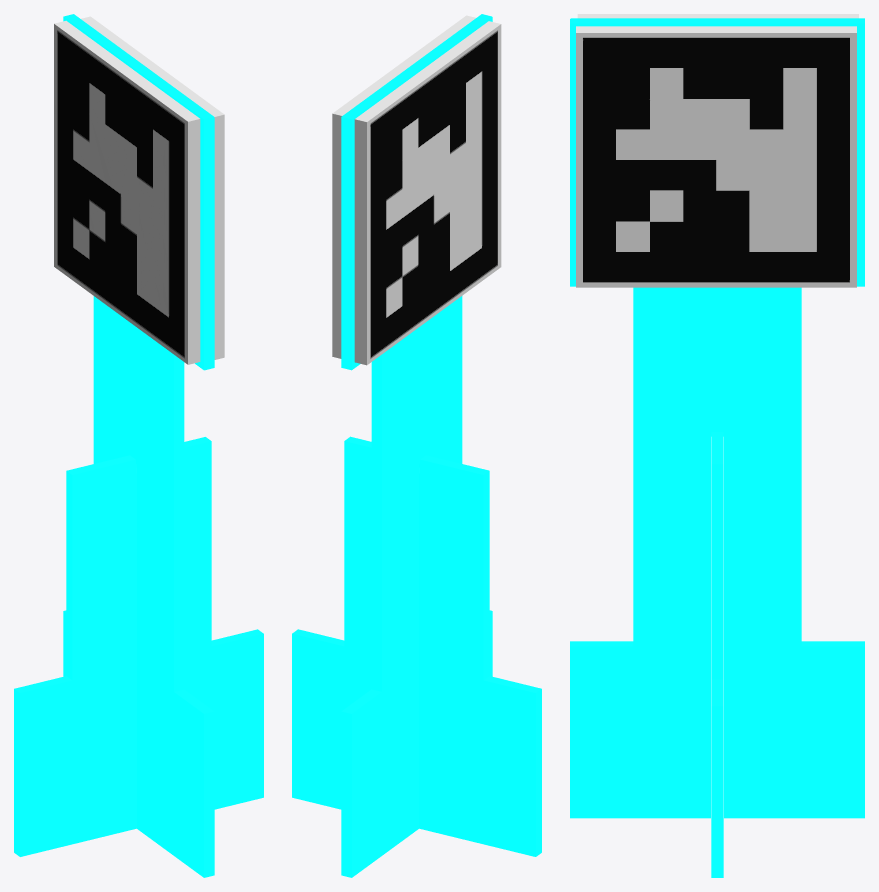
The model's file is creeper.dae.
The picture shows the model from 3 angles, left to right: view 1: azimuth 30°, elevation 25°; view 2: azimuth 150°, elevation 25°; view 3: azimuth 270°, elevation 25°; orthographic projection. The views are drawn at different scales.
Parts seen in each view (by area): view 1: Creeper_-_Montagem_v3, MarkerData, MarkerData_001; view 2: Creeper_-_Montagem_v3, MarkerData, MarkerData_001; view 3: Creeper_-_Montagem_v3, MarkerData_001, MarkerData.
Boxes of the visible parts, left/top/right/bottom form: Creeper_-_Montagem_v3: left=14, top=14, right=263, bottom=877; MarkerData: left=54, top=20, right=200, bottom=364; MarkerData_001: left=81, top=16, right=224, bottom=359; Creeper_-_Montagem_v3: left=292, top=14, right=541, bottom=877; MarkerData: left=354, top=21, right=501, bottom=365; MarkerData_001: left=332, top=15, right=475, bottom=358; Creeper_-_Montagem_v3: left=570, top=18, right=864, bottom=877; MarkerData_001: left=576, top=26, right=856, bottom=287; MarkerData: left=577, top=14, right=858, bottom=18.
Bounding box in the file's own units: 0.063 × 0.063 × 0.1872.
Materials: 2 (1 with a texture image).
